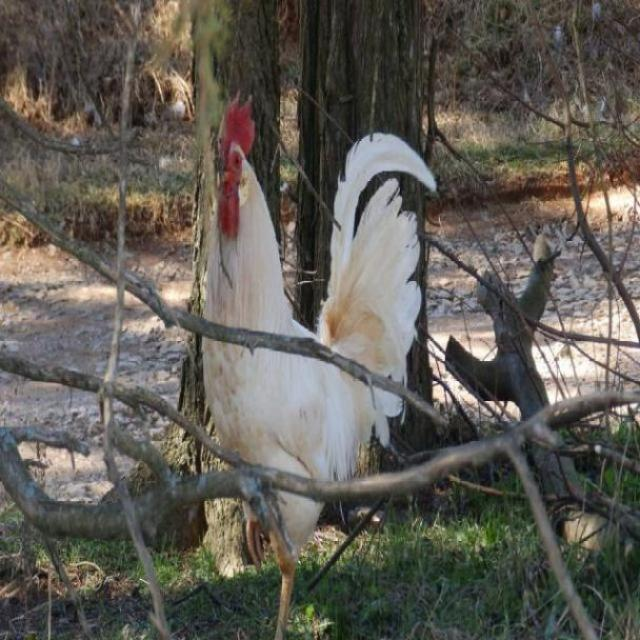Chicken: (189, 100, 425, 618)
